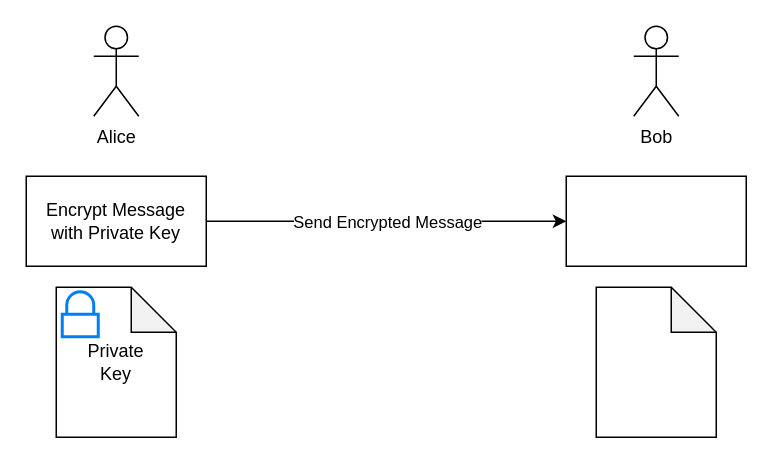
The diagram is 773 pixels wide and 464 high, and some of its shapes have lost their labels. Each missing label, with the centre of its shape:
"Decrypt Message with Public Key" belongs at point (655, 220).
"Public Key" belongs at point (655, 361).
